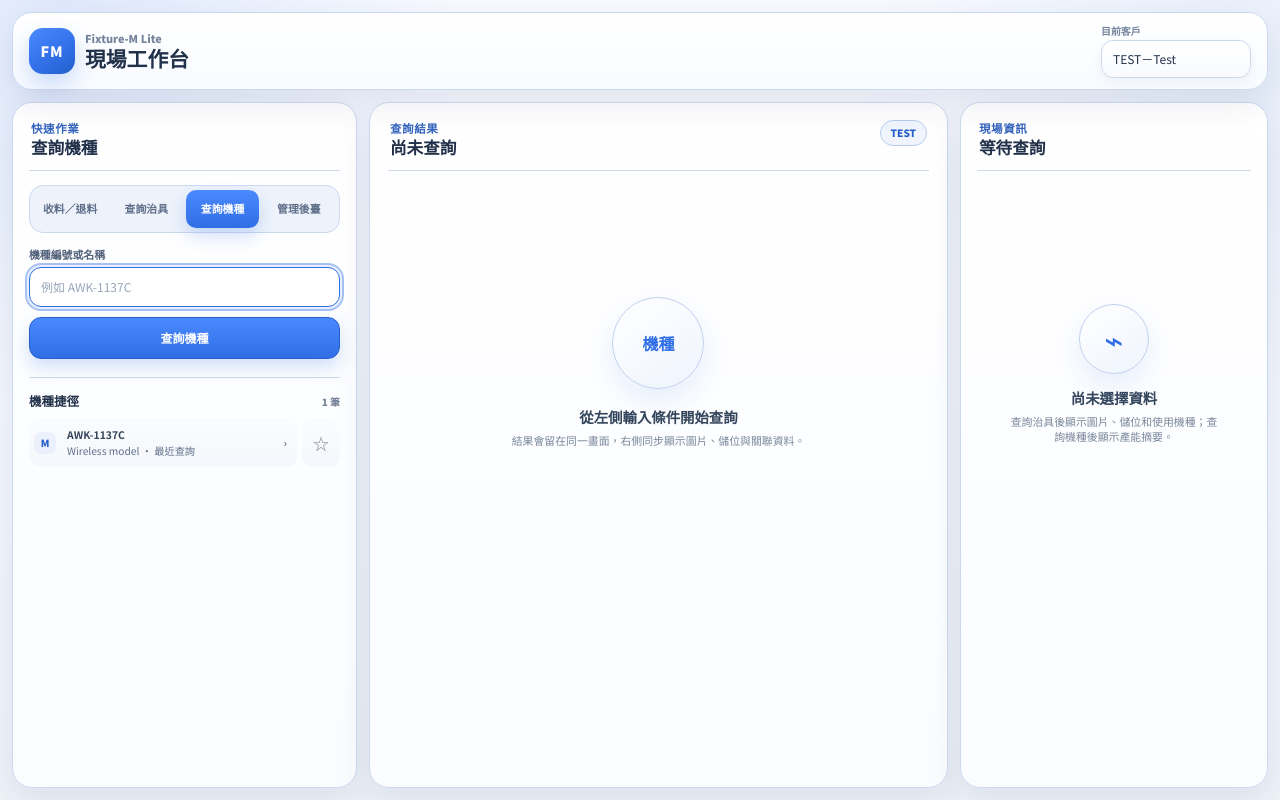
Test: WorkbenchUiSurface › syncs signed-in model pins through the preference API
Click the button named "釘選 AWK-1137C": click(321, 443) [302, 420, 340, 467]
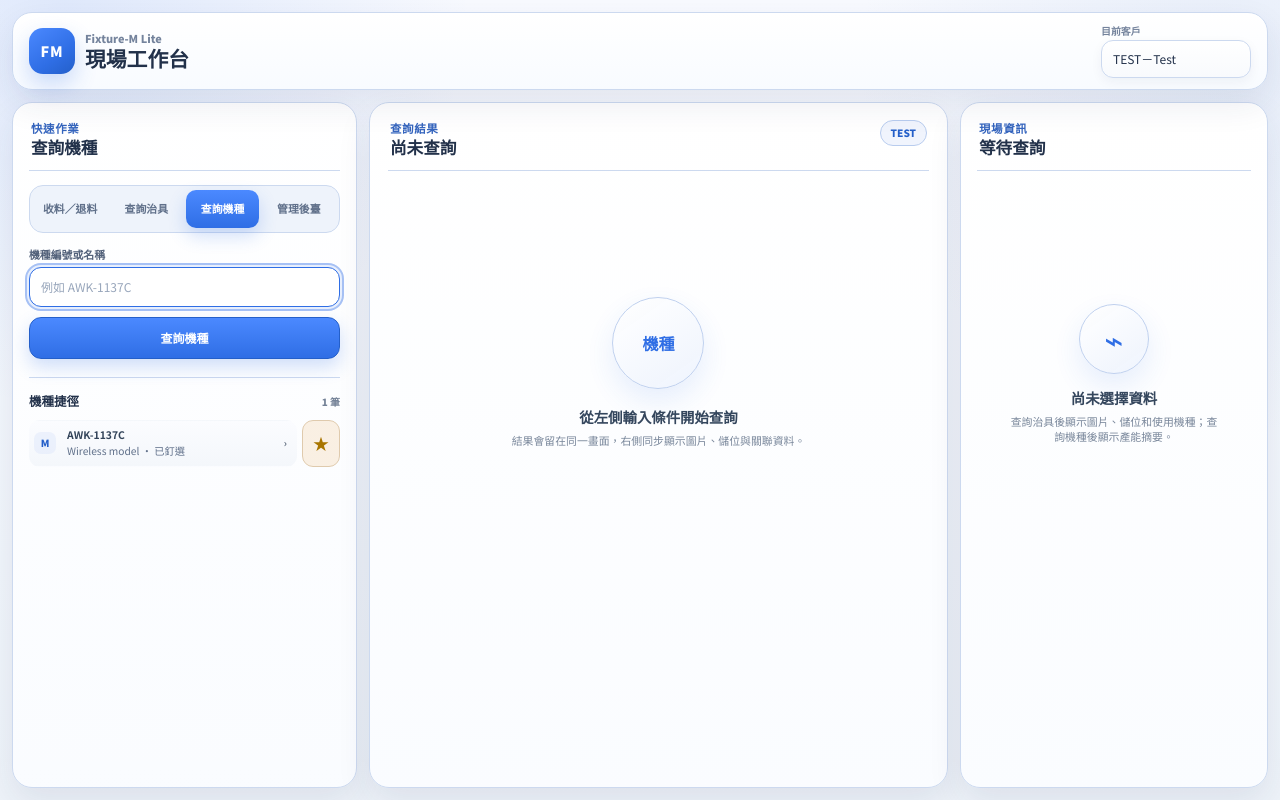
Expected: the text "已釘選" is shown, [67, 443, 185, 458]
